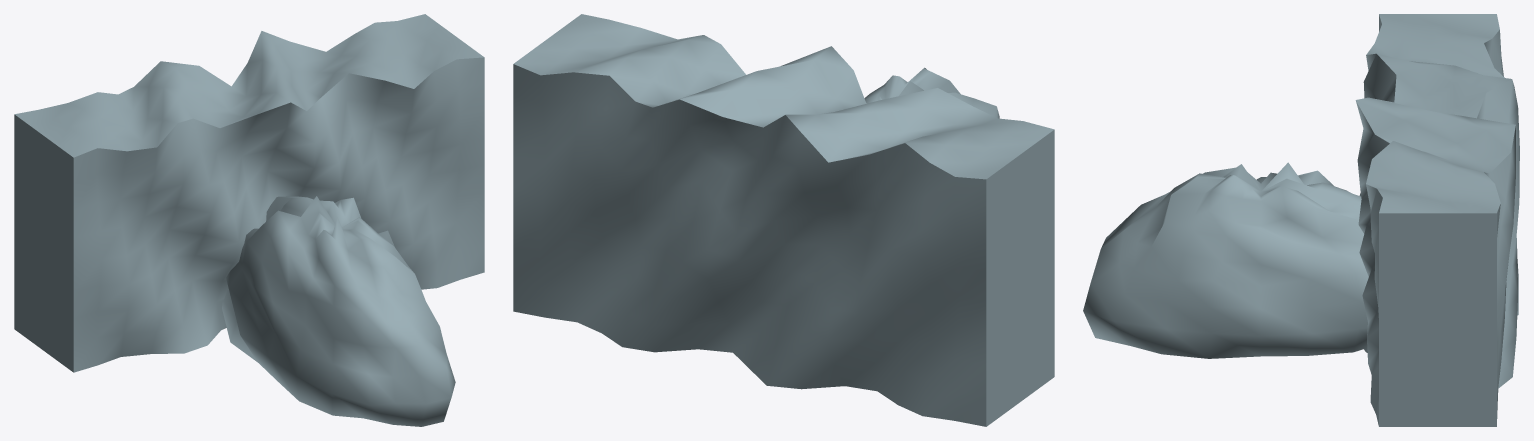
The model's file is reef-spur.glb.
3 renders of one model, left to right at view 1: azimuth 30°, elevation 25°; view 2: azimuth 150°, elevation 25°; view 3: azimuth 270°, elevation 25°, orthographic. The views are drawn at different scales.
Visible parts, largest first — view 1: reef-spur; view 2: reef-spur; view 3: reef-spur.
Part boxes in pixels (bbox=[...]): reef-spur: bbox=[14, 14, 484, 426]; reef-spur: bbox=[513, 14, 1054, 426]; reef-spur: bbox=[1083, 14, 1519, 426].
Bounding box in the file's own units: 4 × 2.14 × 3.71.
